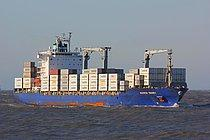Ship: (11, 27, 193, 112)
